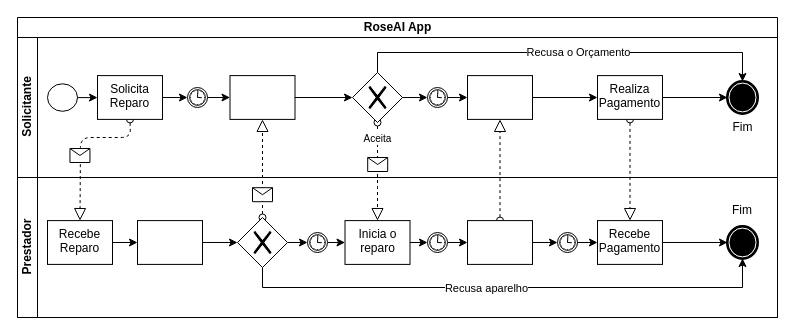
Image size: 795x335. Some labels were removed from this diagram. Each missing label, with the box of its shape:
Analisa Orçamento: (229, 75, 295, 119)
Avalia Orçamento: (136, 220, 202, 264)
Finaliza Reparo: (466, 220, 532, 264)
Início: (46, 83, 78, 111)
Recebe Aparelho: (466, 75, 532, 119)
